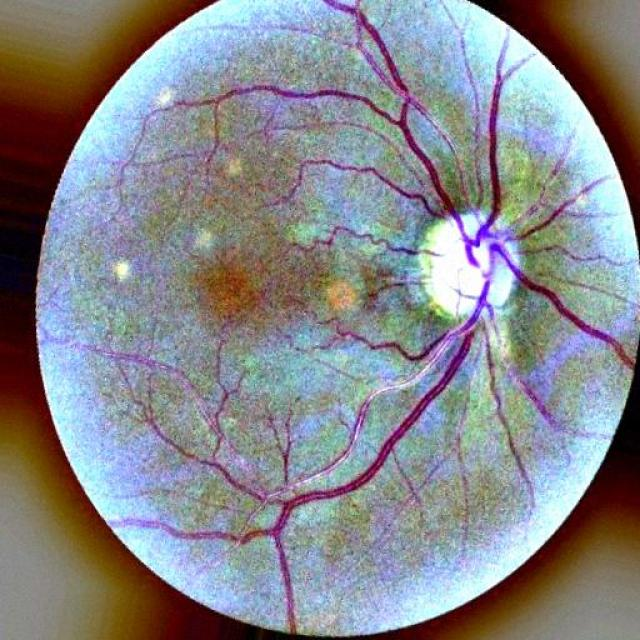Macula: (190, 241, 265, 331)
Nerves: (113, 13, 630, 631)
Optic Disk: (381, 191, 560, 341)
